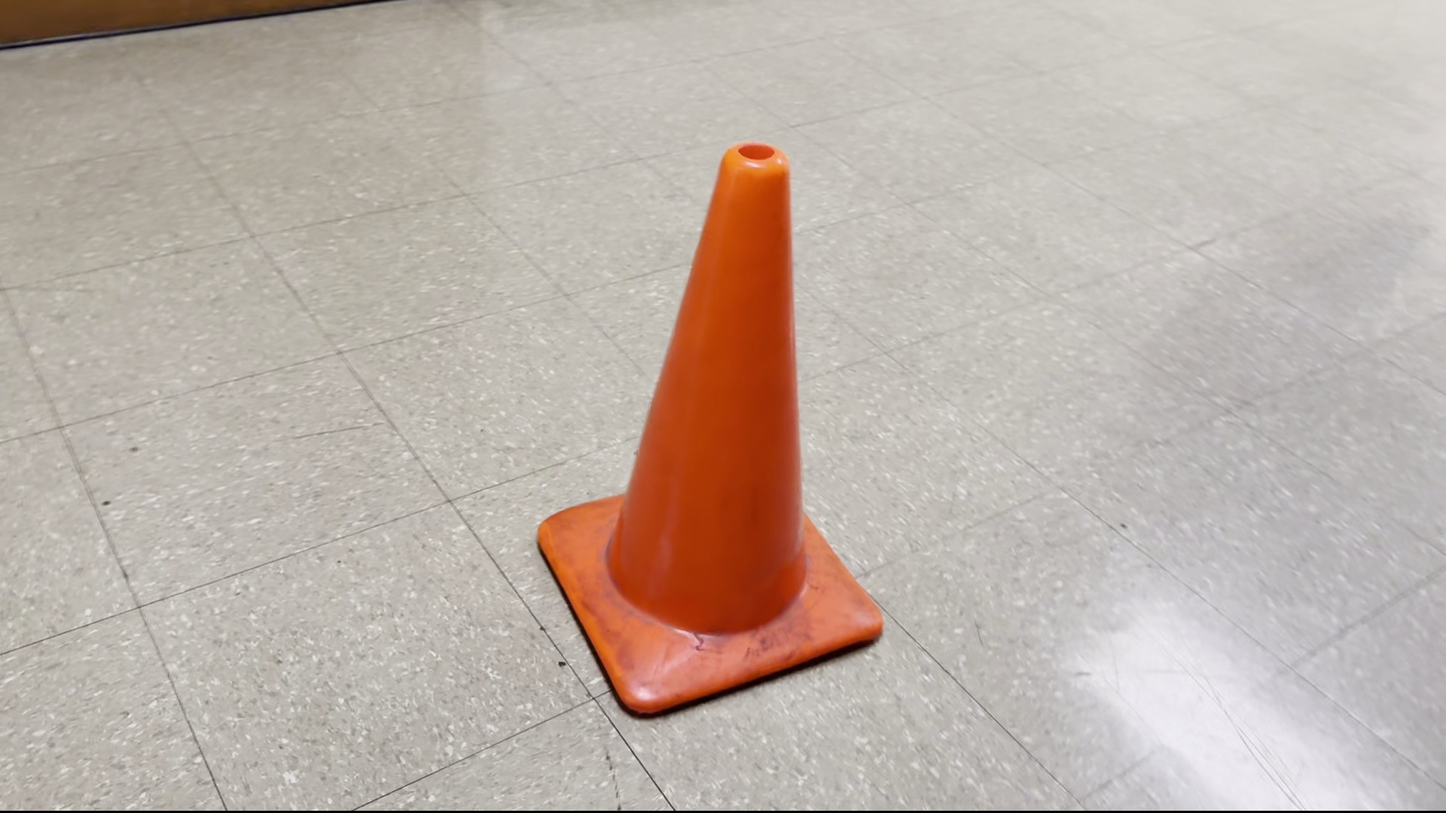traffic_cone: (535, 140, 884, 718)
